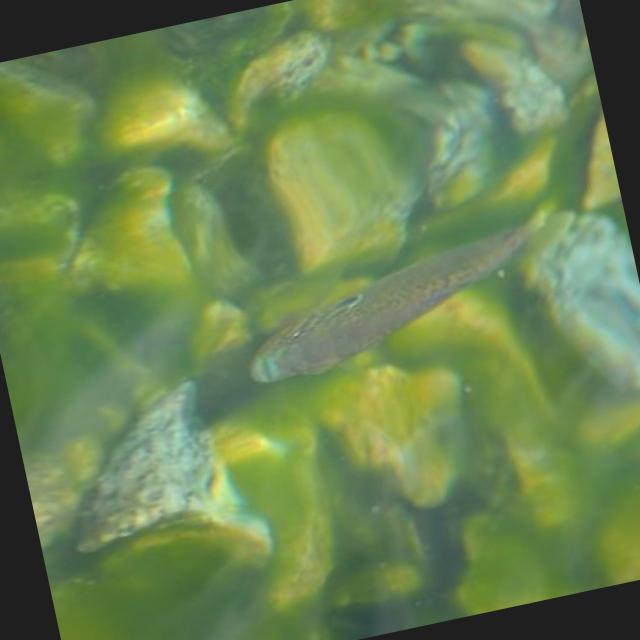Gunes Levregi: (216, 214, 558, 390)
